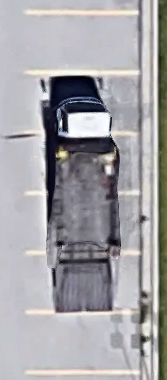Occupied: (24, 73, 142, 135), (24, 193, 142, 253), (24, 253, 142, 313), (24, 134, 141, 194)
Vacant: (23, 12, 143, 74), (25, 313, 141, 373)
